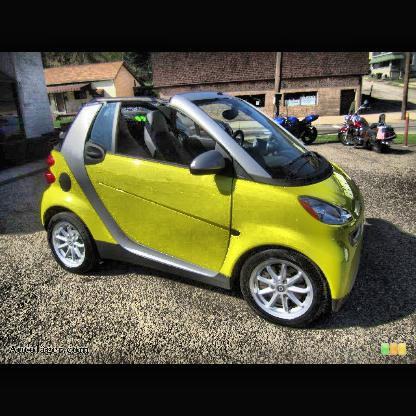smart fortwo Convertible 2012: (43, 94, 364, 329)
